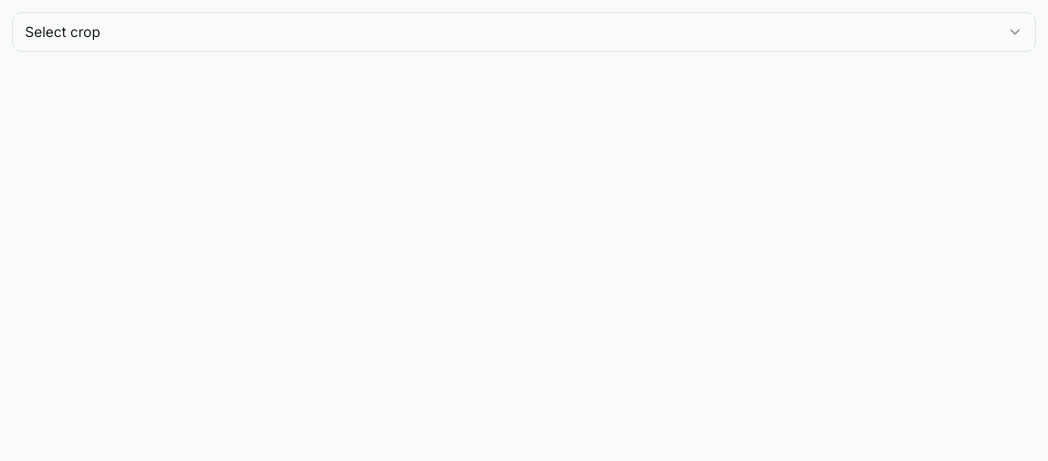
Test: CatalogueSelectItems › shows a coming-soon item disabled, with the reason
Click the dropdown labelled "crop".
click(63, 32)  # box left=12, top=12, right=1036, bottom=52
(page scrolled)
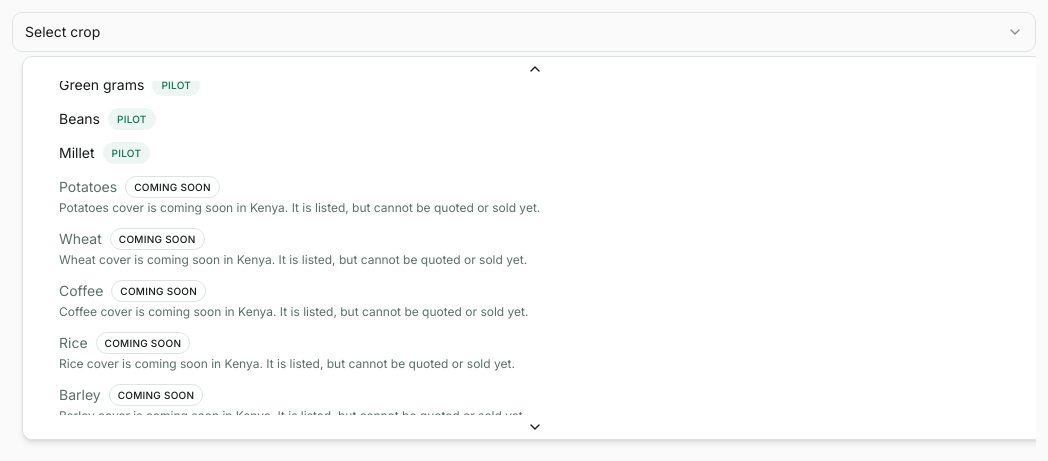
Now the option "Wheat" shows "Coming soon", box left=59, top=228, right=527, bottom=267
Now the option "Wheat" shows "Wheat cover is coming soon in Kenya", box left=59, top=228, right=527, bottom=267
